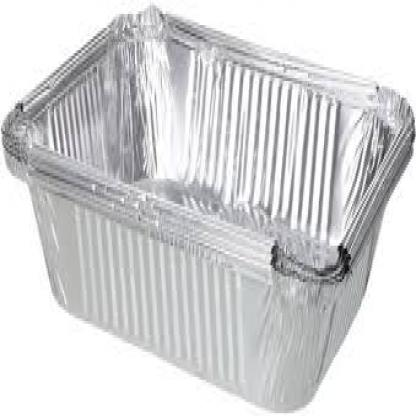METAL: (0, 6, 415, 408)
